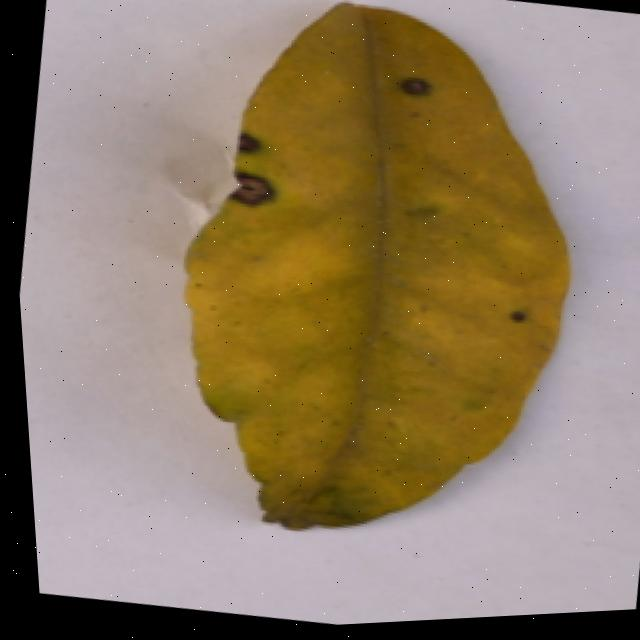canker: (189, 4, 571, 530), (216, 96, 292, 225), (383, 47, 445, 112)
